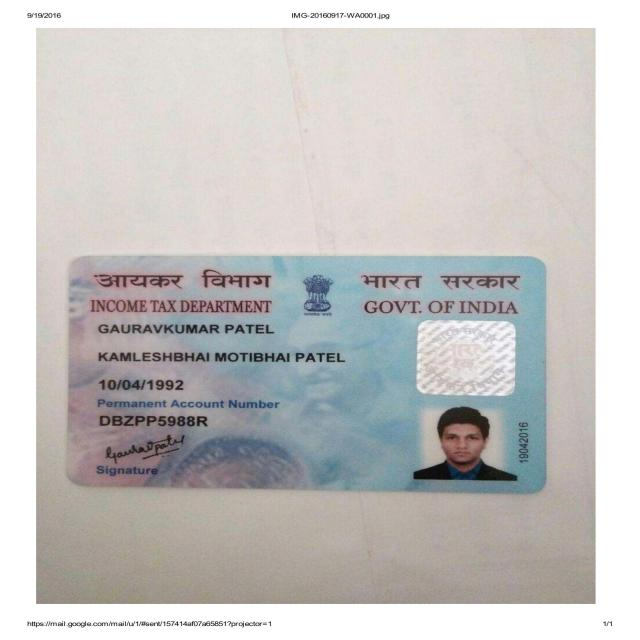pan_card: (73, 257, 536, 489)
